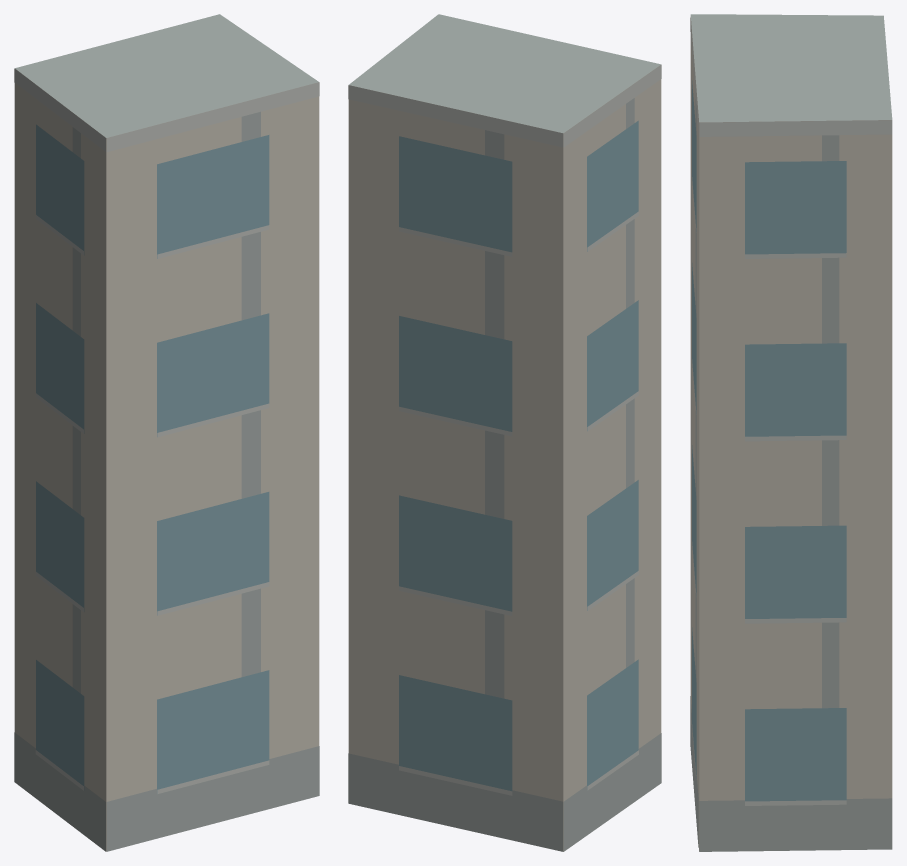
Rendered from survey-upis-32623370.glb.
3 views of the same model, side by side, from view 1: azimuth 30°, elevation 25°; view 2: azimuth 150°, elevation 25°; view 3: azimuth 270°, elevation 25° (orthographic). The views are drawn at different scales.
Parts seen in each view (by area): view 1: survey-upis-32623370.tmp; view 2: survey-upis-32623370.tmp; view 3: survey-upis-32623370.tmp.
Boxes of the visible parts, x1,y1,x2,y2 form: survey-upis-32623370.tmp: (14,14,319,851); survey-upis-32623370.tmp: (348,14,661,851); survey-upis-32623370.tmp: (690,14,892,851).
Size of the model in its own units: 3.9 by 12.2 by 3.07.
